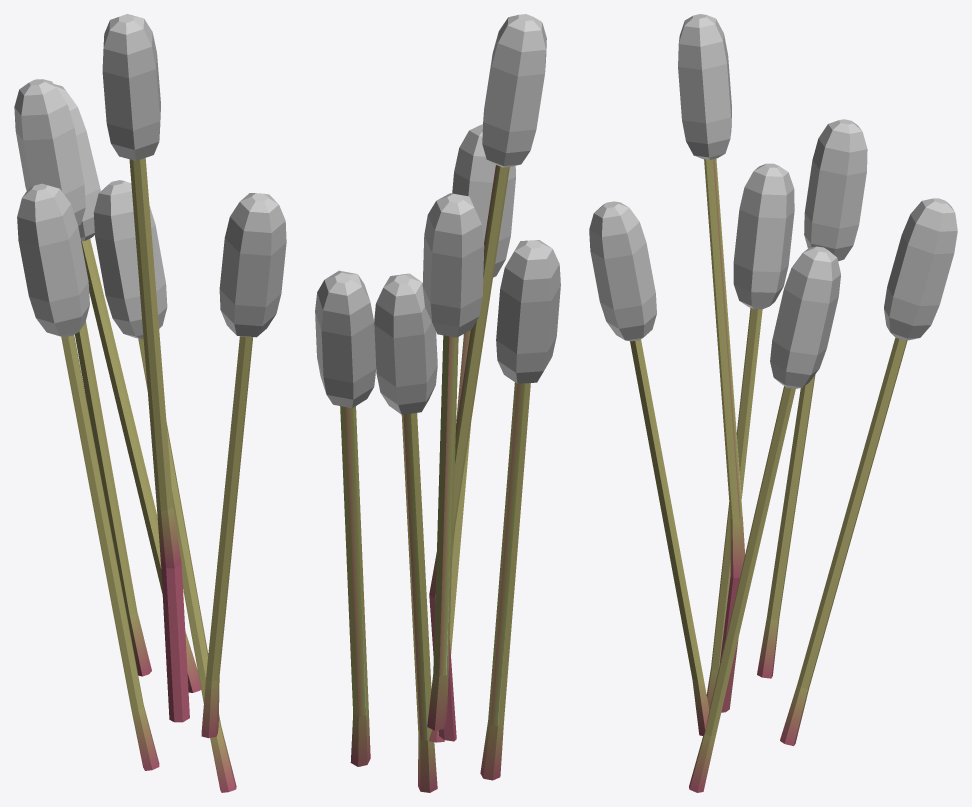
Rendered from Grass_Cattails.fbx.
The picture shows the model from 3 angles, left to right: view 1: azimuth 30°, elevation 25°; view 2: azimuth 150°, elevation 25°; view 3: azimuth 270°, elevation 25°; orthographic projection. The views are drawn at different scales.
Visible parts, largest first — view 1: CatTails; view 2: CatTails; view 3: CatTails.
Part boxes in pixels (bbox=[...]): CatTails: bbox=[14, 14, 286, 792]; CatTails: bbox=[315, 14, 560, 792]; CatTails: bbox=[589, 14, 957, 792].
Size of the model in its own units: 31.39 by 125 by 57.36.
